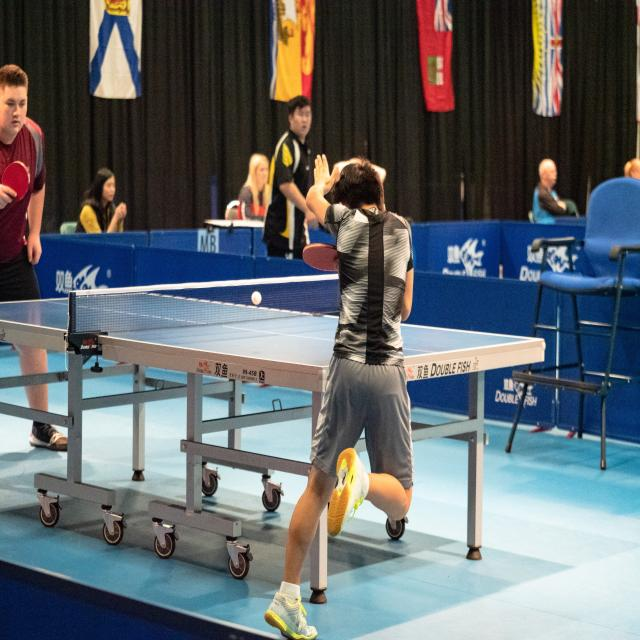TT Net: (62, 273, 339, 345)
TT Racket: (301, 239, 351, 275), (0, 157, 33, 208)
TT Table: (2, 285, 547, 607)
